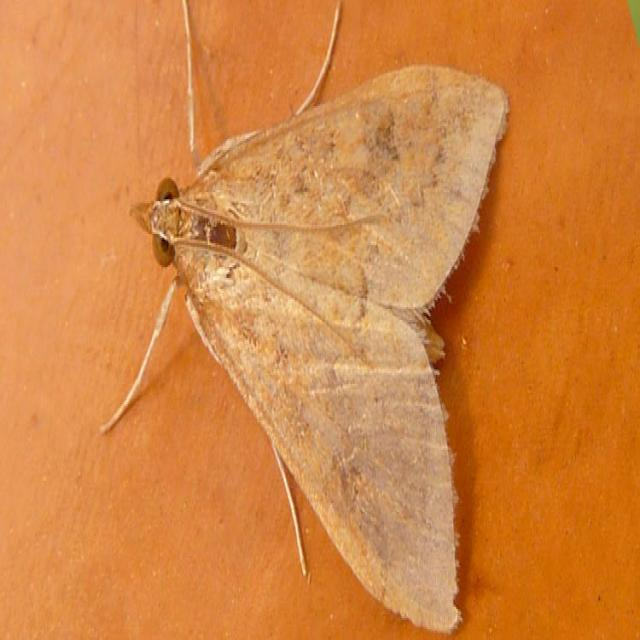cornborer-Adult-: (116, 57, 514, 638)
